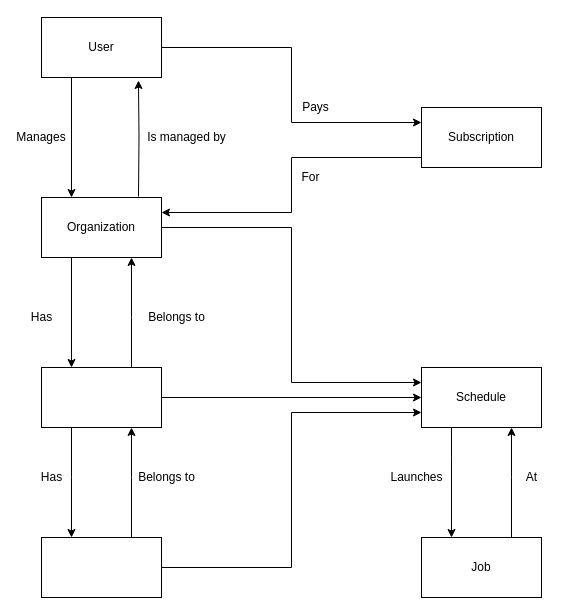
Some shapes in this 564 by 615 pixel diagram are drawn without their labels. Here are the shapes that lost their labels. From the top down, the centre of each, then its label:
At pixel 101 397: "Group of computer".
At pixel 101 567: "Computer".
